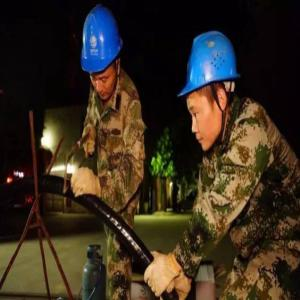blue: (185, 32, 242, 152), (80, 10, 123, 98)
